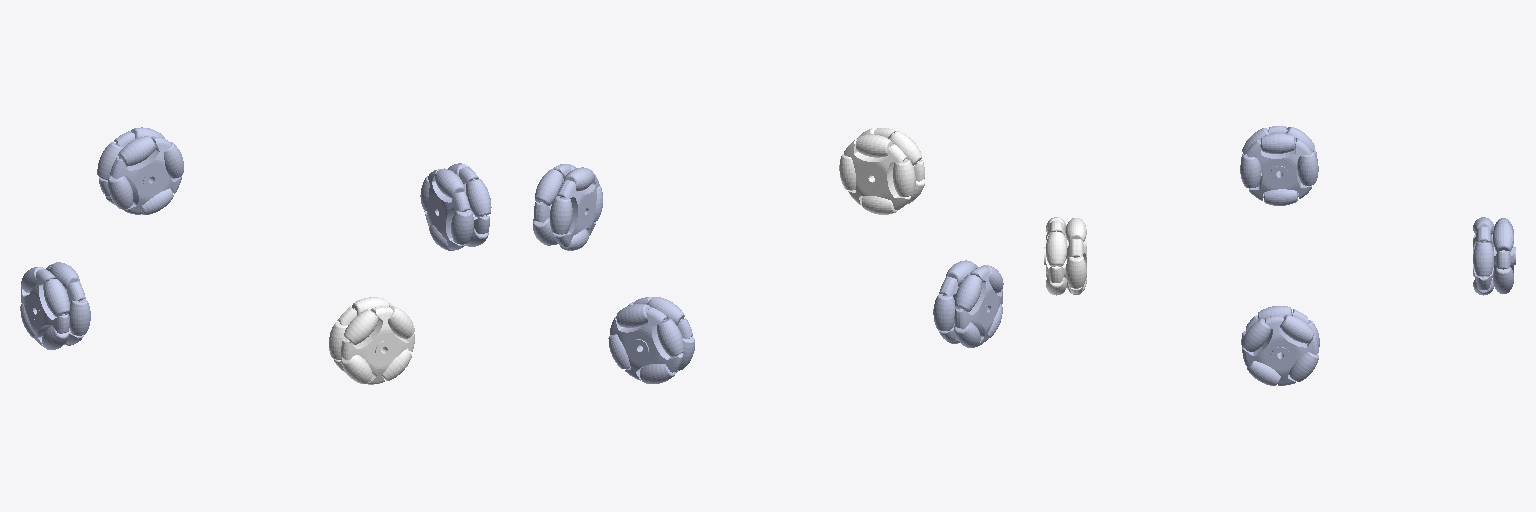
robot.urdf — RobotROS:
<?xml version="1.0" encoding="utf-8"?>
<!-- This URDF was automatically created by SolidWorks to URDF Exporter! Originally created by Stephen Brawner (brawner@gmail.com) 
     Commit Version: 1.6.0-4-g7f85cfe  Build Version: 1.6.7995.38578
     For more information, please see http://wiki.ros.org/sw_urdf_exporter -->
<robot
  name="RobotROS">
  <link
    name="base_link">
    <inertial>
      <origin
        xyz="3.48309153209991E-06 3.60672325339095E-11 0.0280471670298833"
        rpy="0 0 0" />
      <mass
        value="0.380110289469191" />
      <inertia
        ixx="0.00128623683189621"
        ixy="-1.85011347063901E-13"
        ixz="-4.08987092760032E-12"
        iyy="0.00128623683211484"
        iyz="3.05496947183848E-13"
        izz="0.00218003078926772" />
    </inertial>
    <visual>
      <origin
        xyz="0 0 0"
        rpy="0 0 0" />
      <geometry>
        <mesh
          filename="package://RobotROS/meshes/base_link.STL" />
      </geometry>
      <material
        name="">
        <color
          rgba="0.792156862745098 0.819607843137255 0.933333333333333 1" />
      </material>
    </visual>
    <collision>
      <origin
        xyz="0 0 0"
        rpy="0 0 0" />
      <geometry>
        <mesh
          filename="package://RobotROS/meshes/base_link.STL" />
      </geometry>
    </collision>
  </link>
  <link
    name="back_wheel">
    <inertial>
      <origin
        xyz="-1.7554E-09 -4.8902E-09 0.0092664"
        rpy="0 0 0" />
      <mass
        value="0.012622" />
      <inertia
        ixx="1.1768E-06"
        ixy="-3.1606E-14"
        ixz="2.0572E-13"
        iyy="1.1768E-06"
        iyz="-7.3844E-14"
        izz="1.7117E-06" />
    </inertial>
    <visual>
      <origin
        xyz="0 0 0"
        rpy="0 0 0" />
      <geometry>
        <mesh
          filename="package://RobotROS/meshes/back_wheel.STL" />
      </geometry>
      <material
        name="">
        <color
          rgba="0.79216 0.81961 0.93333 1" />
      </material>
    </visual>
    <collision>
      <origin
        xyz="0 0 0"
        rpy="0 0 0" />
      <geometry>
        <mesh
          filename="package://RobotROS/meshes/back_wheel.STL" />
      </geometry>
    </collision>
  </link>
  <joint
    name="backwheel"
    type="continuous">
    <origin
      xyz="-0.105 -0.00025 0.005"
      rpy="-1.5708 0 -1.5708" />
    <parent
      link="base_link" />
    <child
      link="back_wheel" />
    <axis
      xyz="0 0 -1" />
    <limit
      effort="10"
      velocity="10" />
    <dynamics
      damping="0.1"
      friction="0.1" />
  </joint>
  <link
    name="right_wheel">
    <inertial>
      <origin
        xyz="-5.1917E-09 -2.9353E-09 -0.0097336"
        rpy="0 0 0" />
      <mass
        value="0.012622" />
      <inertia
        ixx="1.1768E-06"
        ixy="1.518E-14"
        ixz="3.441E-13"
        iyy="1.1768E-06"
        iyz="-6.0386E-14"
        izz="1.7117E-06" />
    </inertial>
    <visual>
      <origin
        xyz="0 0 0"
        rpy="0 0 0" />
      <geometry>
        <mesh
          filename="package://RobotROS/meshes/right_wheel.STL" />
      </geometry>
      <material
        name="">
        <color
          rgba="0.79216 0.81961 0.93333 1" />
      </material>
    </visual>
    <collision>
      <origin
        xyz="0 0 0"
        rpy="0 0 0" />
      <geometry>
        <mesh
          filename="package://RobotROS/meshes/right_wheel.STL" />
      </geometry>
    </collision>
  </link>
  <joint
    name="rightwheel"
    type="continuous">
    <origin
      xyz="0.00025 0.105 0.005"
      rpy="-1.5708 0 0" />
    <parent
      link="base_link" />
    <child
      link="right_wheel" />
    <axis
      xyz="0 0 1" />
    <limit
      effort="10"
      velocity="10" />
    <dynamics
      damping="0.1"
      friction="0.1" />
  </joint>
  <link
    name="front_wheel">
    <inertial>
      <origin
        xyz="-4.1812E-09 -2.6849E-09 -0.0097336"
        rpy="0 0 0" />
      <mass
        value="0.012622" />
      <inertia
        ixx="1.1768E-06"
        ixy="-3.2363E-14"
        ixz="1.0854E-13"
        iyy="1.1768E-06"
        iyz="-1.6904E-13"
        izz="1.7117E-06" />
    </inertial>
    <visual>
      <origin
        xyz="0 0 0"
        rpy="0 0 0" />
      <geometry>
        <mesh
          filename="package://RobotROS/meshes/front_wheel.STL" />
      </geometry>
      <material
        name="">
        <color
          rgba="0.79216 0.81961 0.93333 1" />
      </material>
    </visual>
    <collision>
      <origin
        xyz="0 0 0"
        rpy="0 0 0" />
      <geometry>
        <mesh
          filename="package://RobotROS/meshes/front_wheel.STL" />
      </geometry>
    </collision>
  </link>
  <joint
    name="frontwheel"
    type="continuous">
    <origin
      xyz="0.105 0.00025 0.005"
      rpy="-1.5708 0 -1.5708" />
    <parent
      link="base_link" />
    <child
      link="front_wheel" />
    <axis
      xyz="0 0 1" />
    <limit
      effort="10"
      velocity="10" />
    <dynamics
      damping="0.1"
      friction="0.1" />
  </joint>
  <link
    name="left_wheel">
    <inertial>
      <origin
        xyz="0 0 0"
        rpy="0 0 0" />
      <mass
        value="0" />
      <inertia
        ixx="0"
        ixy="0"
        ixz="0"
        iyy="0"
        iyz="0"
        izz="0" />
    </inertial>
    <visual>
      <origin
        xyz="0 0 0"
        rpy="0 0 0" />
      <geometry>
        <mesh
          filename="package://RobotROS/meshes/left_wheel.STL" />
      </geometry>
      <material
        name="">
        <color
          rgba="1 1 1 1" />
      </material>
    </visual>
    <collision>
      <origin
        xyz="0 0 0"
        rpy="0 0 0" />
      <geometry>
        <mesh
          filename="package://RobotROS/meshes/left_wheel.STL" />
      </geometry>
    </collision>
  </link>
  <joint
    name="leftwheel"
    type="continuous">
    <origin
      xyz="0.00025 -0.105 0.005"
      rpy="-1.5708 0 0" />
    <parent
      link="base_link" />
    <child
      link="left_wheel" />
    <axis
      xyz="0 0 -1" />
    <limit
      effort="10"
      velocity="10" />
    <dynamics
      damping="0.1"
      friction="0.1" />
  </joint>
</robot>

--- Facts derived from the render (not from the file) ---
Views: 3 orthographic renders of the robot side by side, from view 1: azimuth 30°, elevation 25°; view 2: azimuth 150°, elevation 25°; view 3: azimuth 270°, elevation 25°.
Model RobotROS with 5 links and 4 joints (4 continuous), rooted at base_link, posed every joint at zero.
Visible links, largest first — view 1: right_wheel, left_wheel, back_wheel, front_wheel; view 2: right_wheel, left_wheel, back_wheel, front_wheel; view 3: front_wheel, back_wheel, left_wheel, right_wheel.
Boxes of the visible links, <box> form: right_wheel: <box>97,127,183,214</box>; left_wheel: <box>329,297,414,384</box>; back_wheel: <box>20,262,90,349</box>; front_wheel: <box>420,163,491,250</box>; right_wheel: <box>608,297,694,383</box>; left_wheel: <box>839,128,924,214</box>; back_wheel: <box>933,260,1003,347</box>; front_wheel: <box>533,164,602,250</box>; front_wheel: <box>1241,306,1319,385</box>; back_wheel: <box>1240,126,1318,205</box>; left_wheel: <box>1044,217,1086,295</box>; right_wheel: <box>1473,217,1515,295</box>.
Size in the robot's own frame: 0.21 by 0.21 by 0.035 metres.
4 mesh visuals loaded from 5 distinct referenced files (4 binary STL); not drawn: 1 (reference not matched to a file when rendering).
